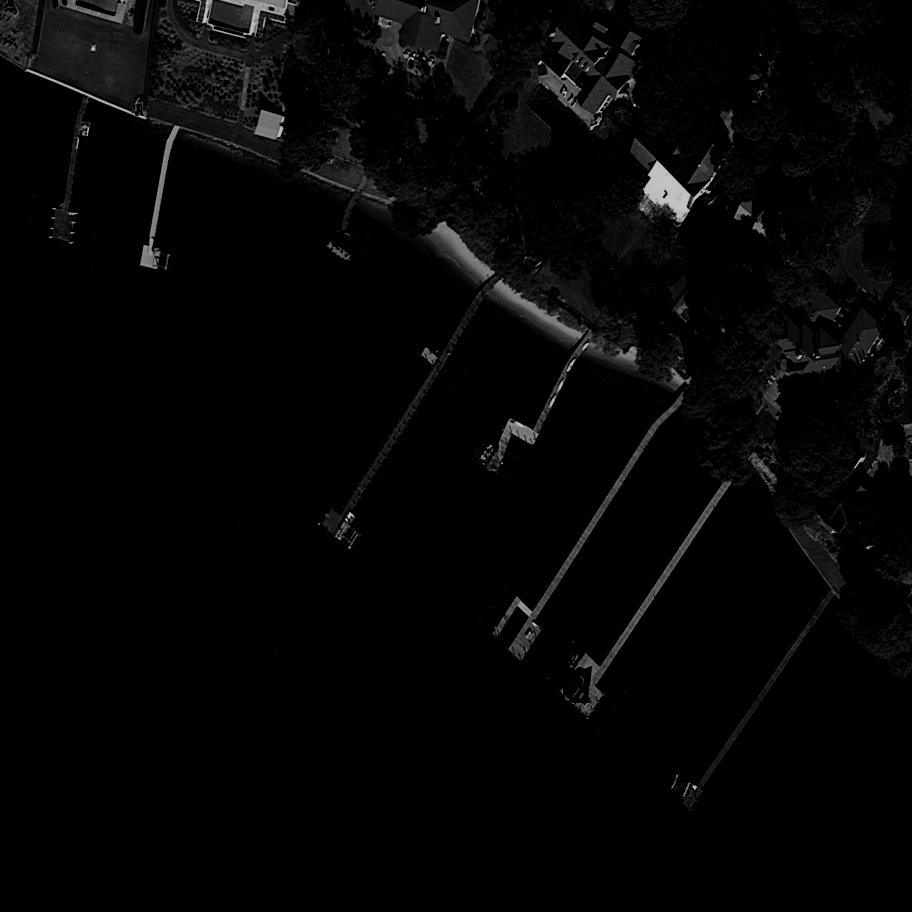ship: (323, 236, 360, 266), (562, 671, 592, 704), (475, 442, 499, 469), (676, 773, 694, 798), (333, 230, 355, 247), (135, 95, 143, 116)
small-vehicle: (881, 422, 905, 447), (888, 380, 908, 397), (891, 461, 911, 476), (898, 508, 904, 524)
